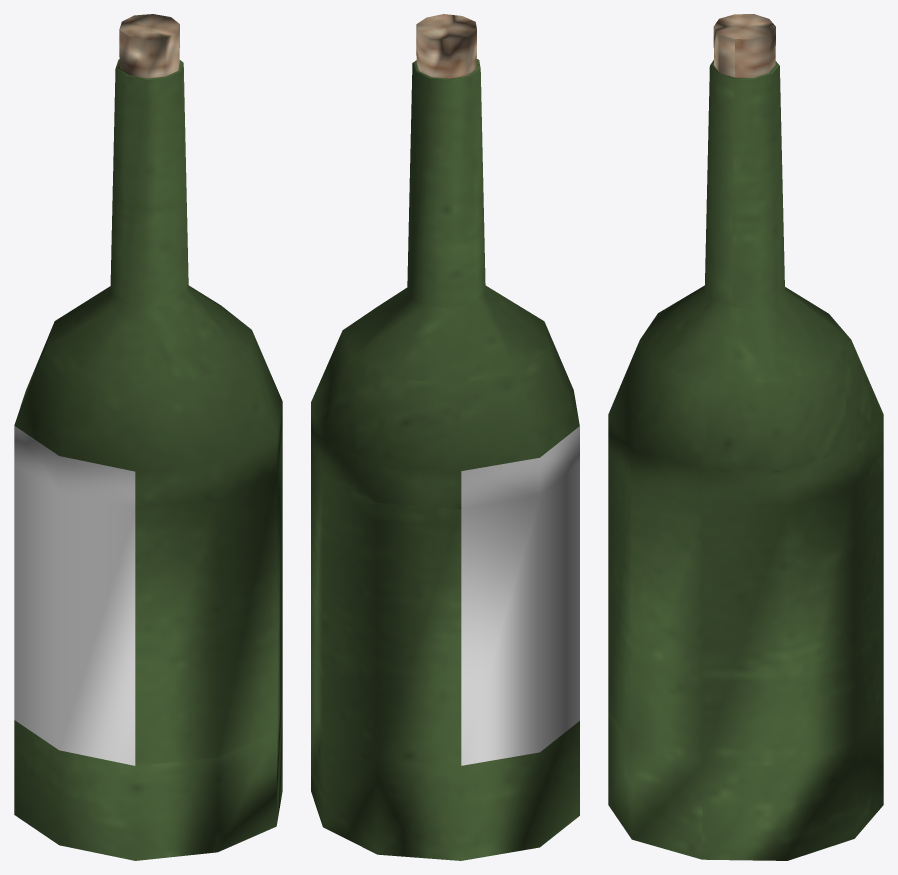
File: MS_Bottle_1a.fbx
3 renders of one model, left to right at view 1: azimuth 30°, elevation 25°; view 2: azimuth 150°, elevation 25°; view 3: azimuth 270°, elevation 25°, orthographic.
Parts seen in each view (by area): view 1: MSH_Bottle_01; view 2: MSH_Bottle_01; view 3: MSH_Bottle_01.
Boxes of the visible parts, x1=… form: MSH_Bottle_01: x1=14, y1=14, x2=282, y2=860; MSH_Bottle_01: x1=311, y1=14, x2=579, y2=860; MSH_Bottle_01: x1=608, y1=14, x2=883, y2=860.
Bounding box in the file's own units: 7.48 × 24.28 × 7.78.
